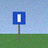sign: (13, 12, 25, 42)
